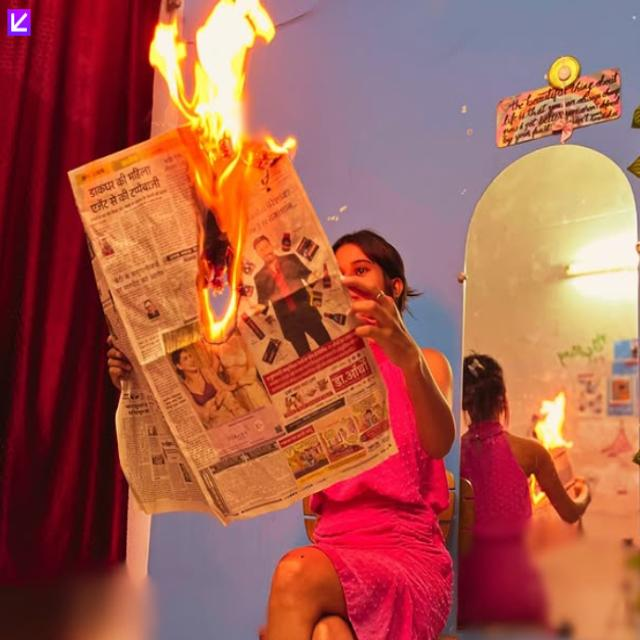fire: (148, 0, 296, 165), (204, 209, 244, 343), (195, 151, 242, 205), (534, 393, 573, 453)
